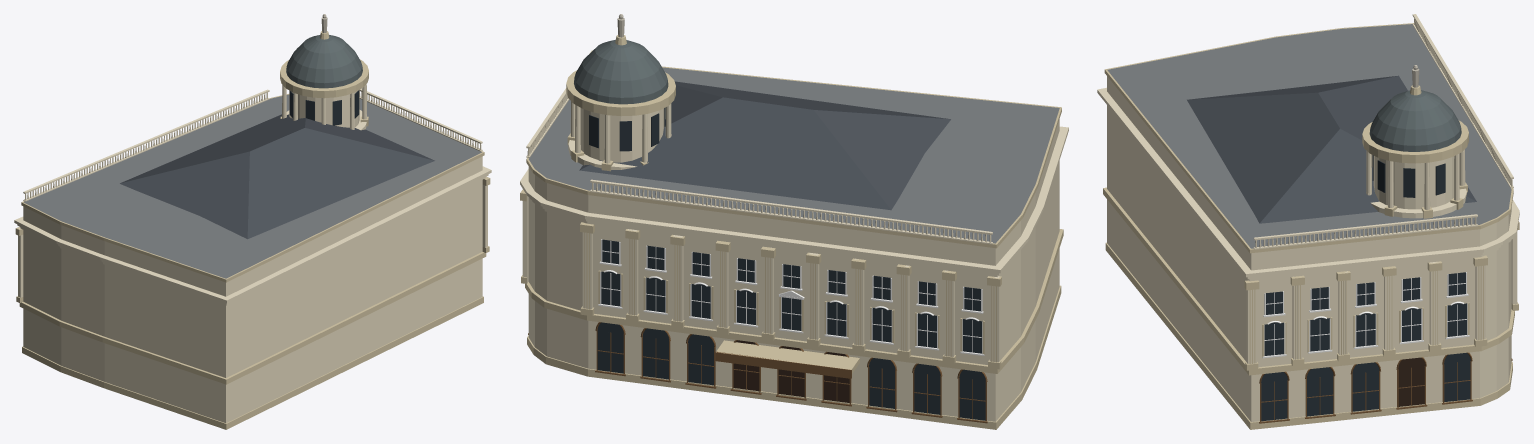
The model's file is coronet_theatre.glb.
3 views of the same model, side by side, from view 1: azimuth 30°, elevation 25°; view 2: azimuth 150°, elevation 25°; view 3: azimuth 270°, elevation 25° (orthographic). The views are drawn at different scales.
Bounding box in the file's own units: 42.23 × 26.45 × 31.81.
